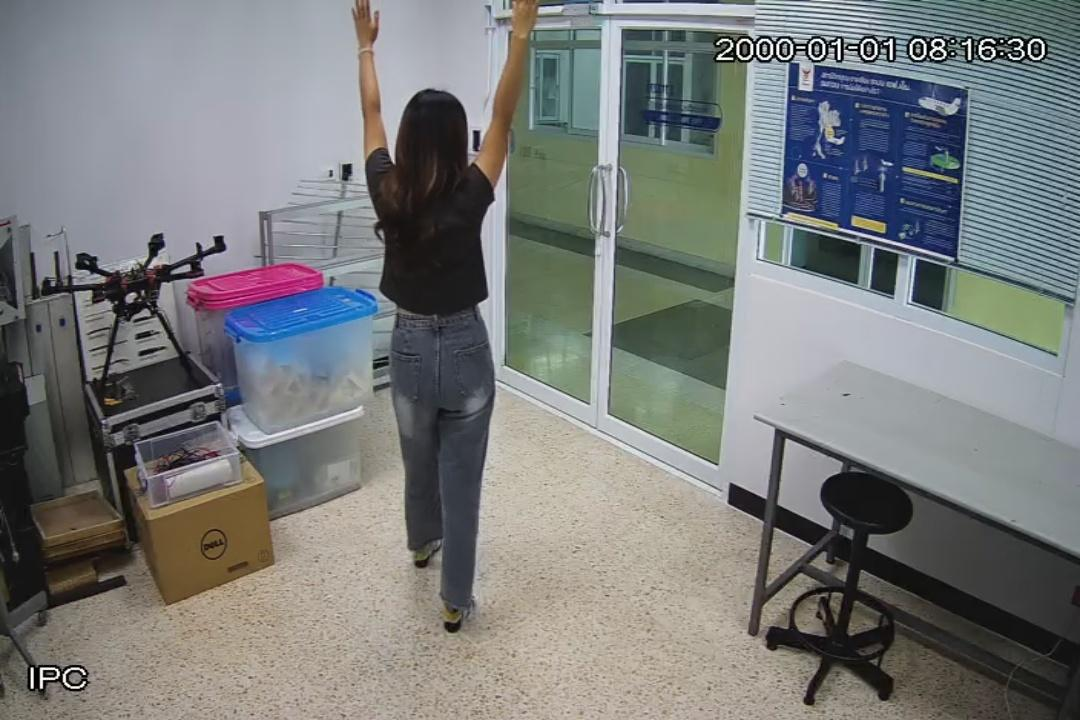normal: (348, 0, 542, 632)
